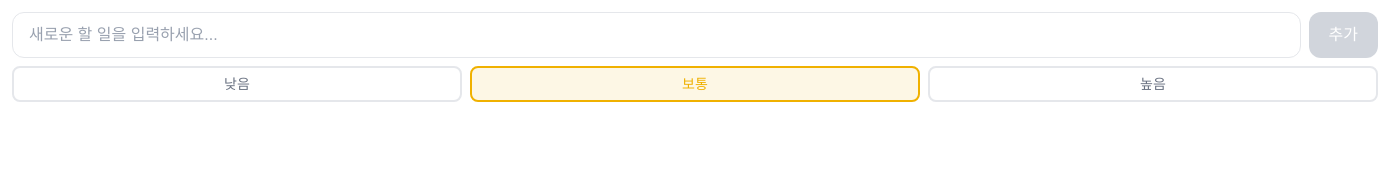
TodoInput › 추가 버튼 활성화/비활성화 › 텍스트를 입력하면 추가 버튼이 활성화된다
Type "할 일" into the field at (656,35), box [12,12,1300,58]
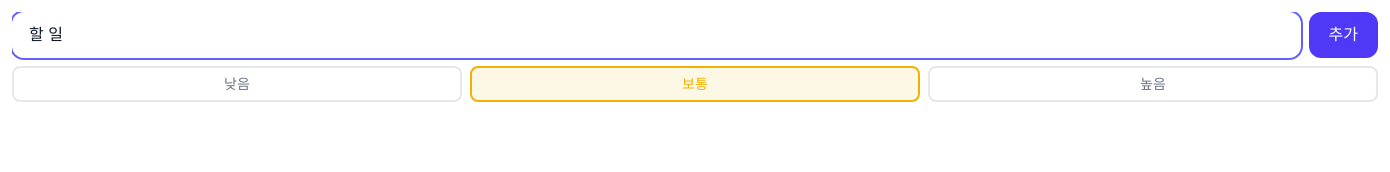
Expected: the button "추가" is enabled, [1308,12,1378,58]
